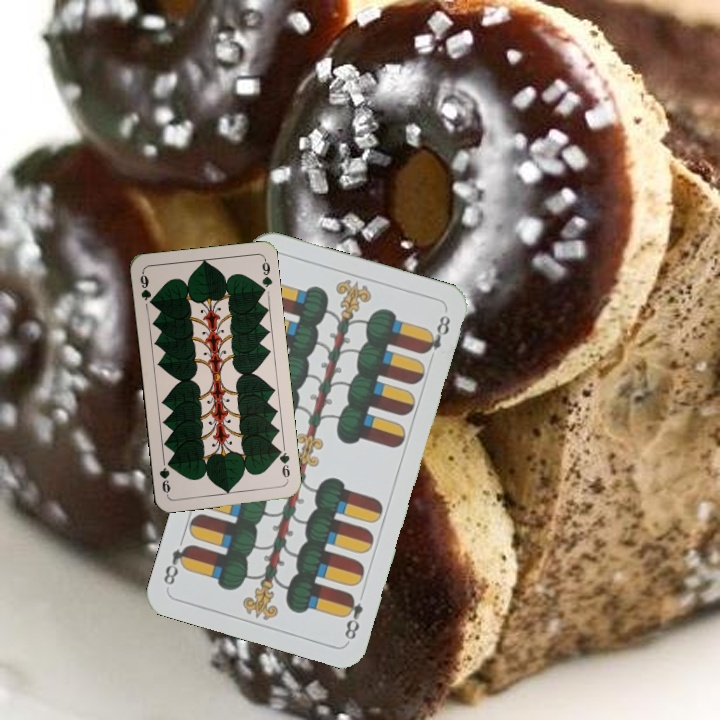E8: (339, 589, 366, 643)
G9: (136, 268, 157, 308), (273, 443, 292, 484)
